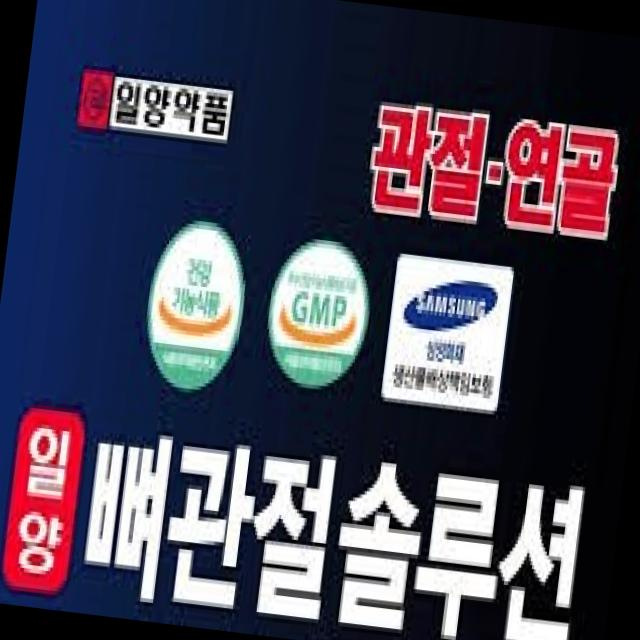GMP: (260, 232, 376, 392)
HEALTHY: (138, 214, 252, 397)
